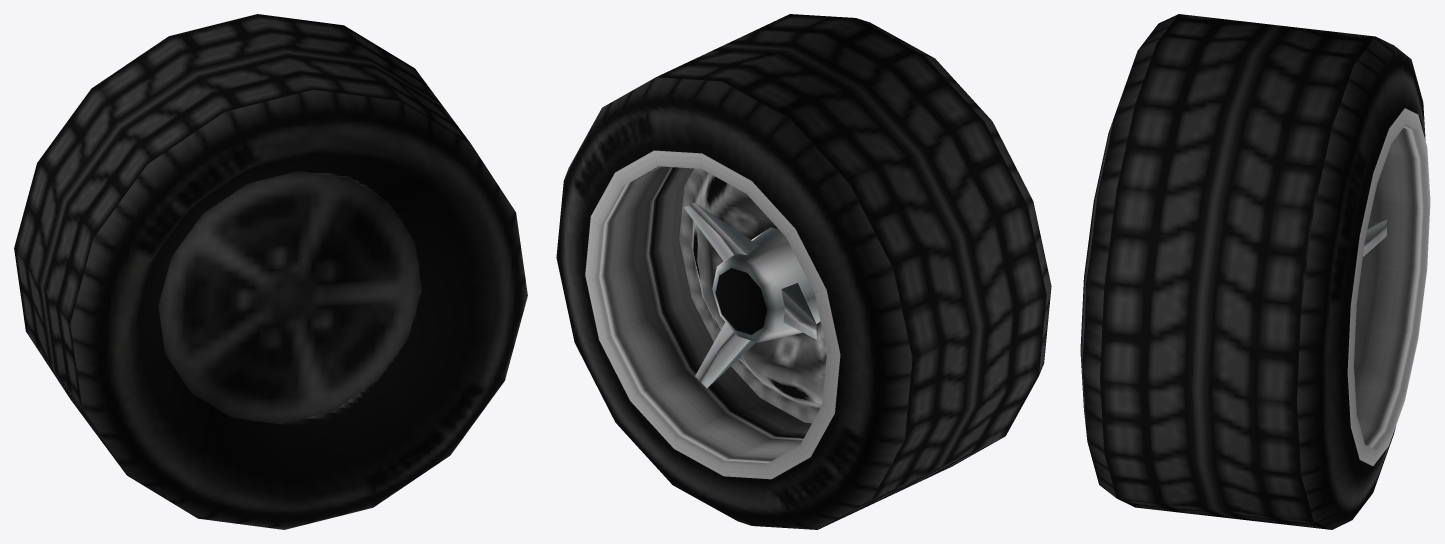
Rendered from C_CAREER.ICO.obj.
3 views of the same model, side by side, from view 1: azimuth 30°, elevation 25°; view 2: azimuth 150°, elevation 25°; view 3: azimuth 270°, elevation 25° (orthographic). The views are drawn at different scales.
Size of the model in its own units: 2.85 by 2.69 by 1.88.
1 material, 1 textured.
